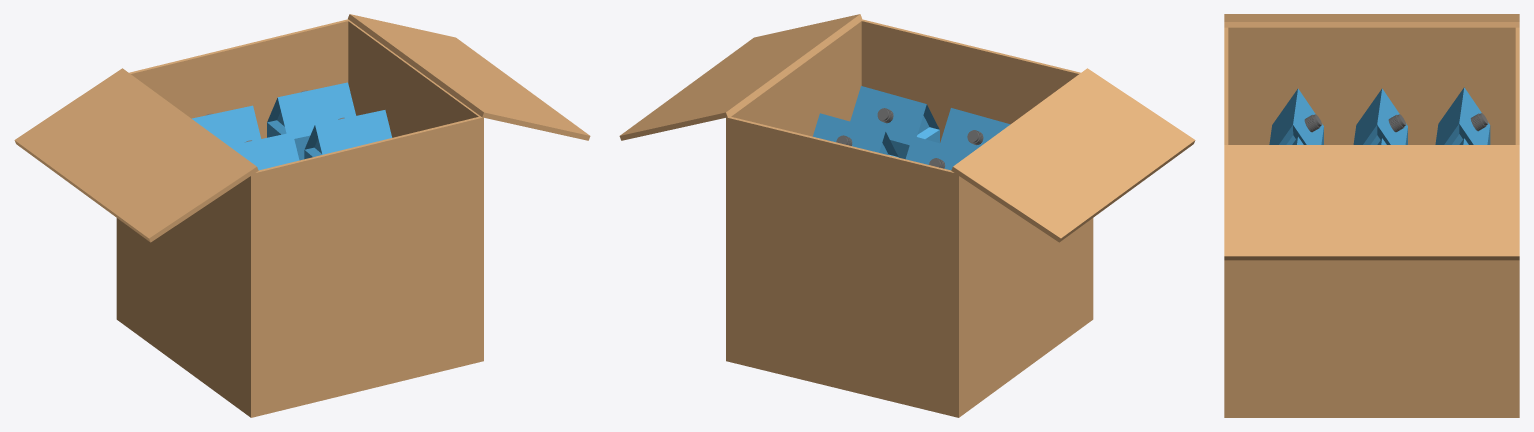
File: MilkBox.fbx
3 views of the same model, side by side, from view 1: azimuth 30°, elevation 25°; view 2: azimuth 150°, elevation 25°; view 3: azimuth 270°, elevation 25° (orthographic). The views are drawn at different scales.
Parts seen in each view (by area): view 1: Cube.024, Cube.025, Cylinder.014, Cube.026; view 2: Cube.024, Cube.025, Cube.026, Cylinder.014; view 3: Cube.024, Cube.026, Cylinder.014, Cube.025.
Boxes of the visible parts, x1,y1,x2,y2 form: Cube.024: (116,19,483,417); Cube.025: (14,68,258,242); Cylinder.014: (192,82,392,170); Cube.026: (348,14,590,140); Cube.024: (726,19,1093,417); Cube.025: (951,68,1195,242); Cube.026: (619,14,861,140); Cylinder.014: (813,86,1010,170); Cube.024: (1224,27,1519,417); Cube.026: (1224,145,1519,260); Cylinder.014: (1269,87,1490,144); Cube.025: (1224,14,1519,27).
Size of the model in its own units: 0.5697 by 0.3081 by 0.3006.
